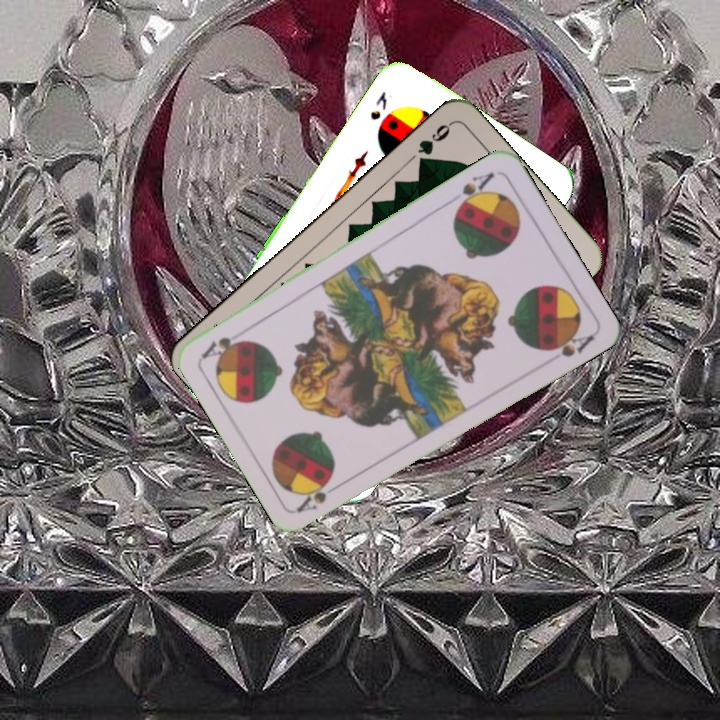G9: (413, 118, 455, 170)
SA: (293, 476, 347, 515), (452, 168, 497, 213)
SK: (366, 87, 390, 123)
